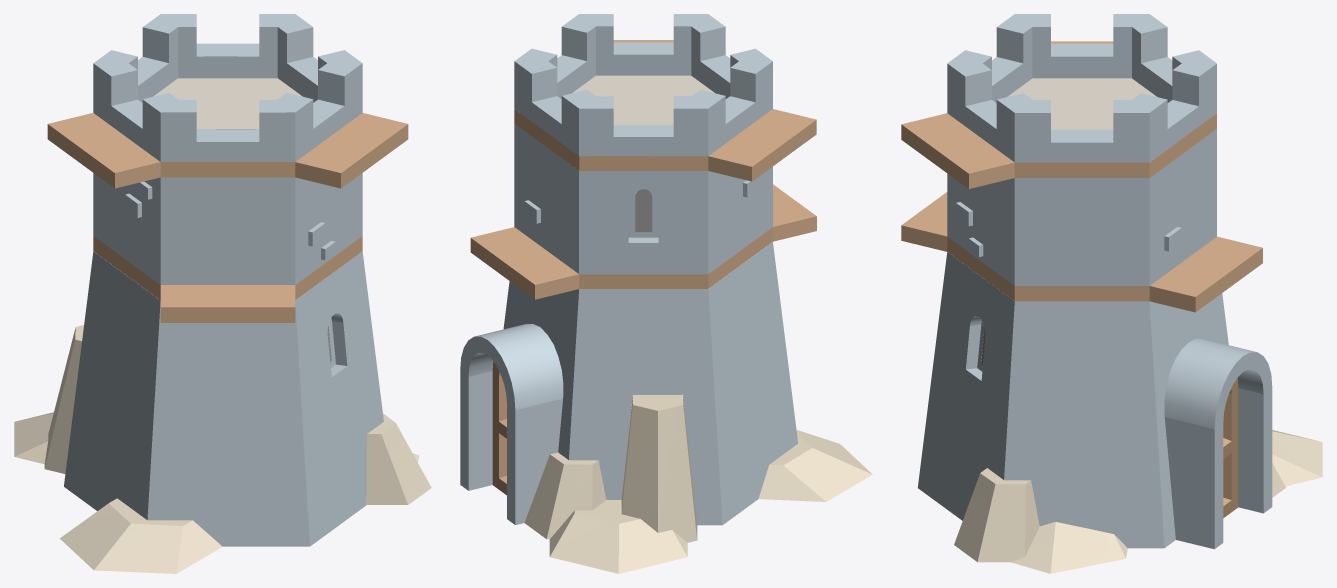
The model's file is tower.glb.
3 views of the same model, side by side, from view 1: azimuth 30°, elevation 25°; view 2: azimuth 150°, elevation 25°; view 3: azimuth 270°, elevation 25° (orthographic). The views are drawn at different scales.
Visible parts, largest first — view 1: tower; view 2: tower; view 3: tower.
Part boxes in pixels (left/top/right/bottom): tower: left=14, top=14, right=431, bottom=573; tower: left=460, top=14, right=872, bottom=573; tower: left=901, top=14, right=1322, bottom=573.
Bounding box in the file's own units: 3.32 × 3.71 × 3.34.
